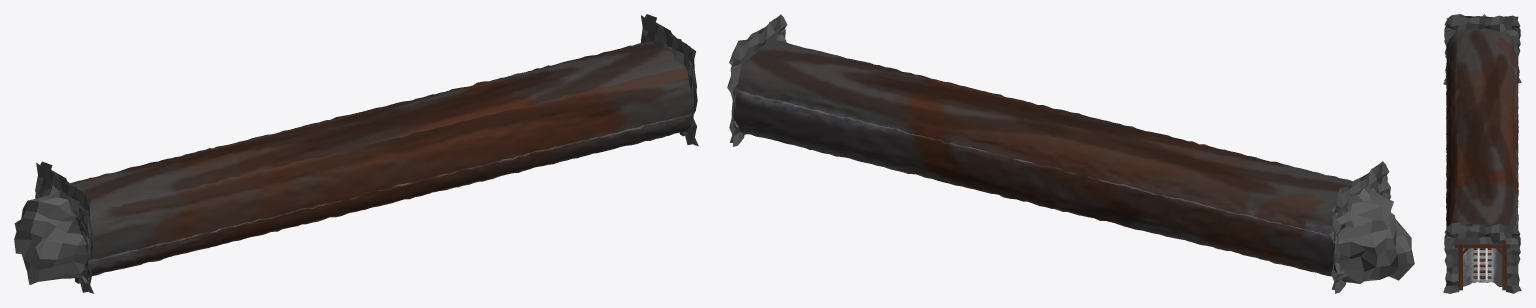
Rendered from track_start.fbx.
3 views of the same model, side by side, from view 1: azimuth 30°, elevation 25°; view 2: azimuth 150°, elevation 25°; view 3: azimuth 270°, elevation 25° (orthographic). The views are drawn at different scales.
Parts seen in each view (by area): view 1: Tunnel, Rock pocket, WallBack.001, WallBack, Wall.001, Wall; view 2: Tunnel, Rock pocket, WallBack.001, WallBack, Wall.001, Wall; view 3: Tunnel, Wall.001, Wall, GateExit, Plank, WallBack.001, WallBack, Track.
Boxes of the visible parts, box(x1,y1,x2,y2) form: Tunnel: box(70, 41, 694, 275); Rock pocket: box(14, 172, 90, 284); WallBack.001: box(640, 15, 694, 144); WallBack: box(35, 162, 89, 292); Wall.001: box(642, 14, 698, 146); Wall: box(40, 161, 93, 293); Tunnel: box(733, 40, 1352, 276); Rock pocket: box(1334, 176, 1414, 283); WallBack.001: box(730, 14, 787, 146); WallBack: box(1332, 161, 1390, 293); Wall.001: box(727, 15, 785, 142); Wall: box(1329, 161, 1387, 289); Tunnel: box(1446, 29, 1518, 286); Wall.001: box(1443, 223, 1520, 293); Wall: box(1443, 15, 1520, 84); GateExit: box(1455, 243, 1510, 290); Plank: box(1473, 248, 1491, 278); WallBack.001: box(1444, 222, 1521, 292); WallBack: box(1444, 14, 1521, 82); Track: box(1477, 248, 1487, 281).
Bounding box in the file's own units: 5419 × 779 × 798.
